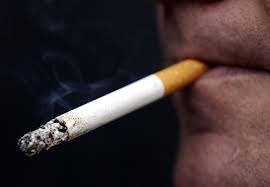sigaretta: (19, 48, 208, 154)
